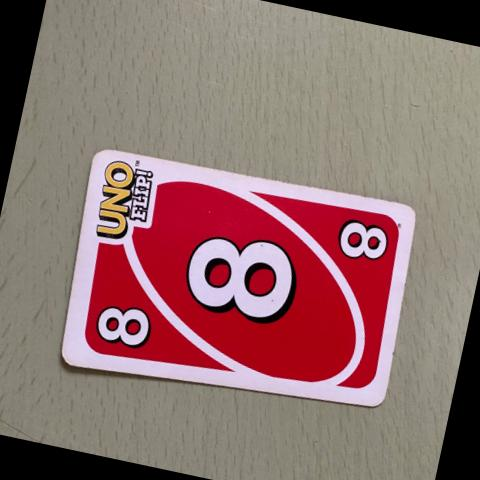lred-8: (70, 279, 174, 374)
